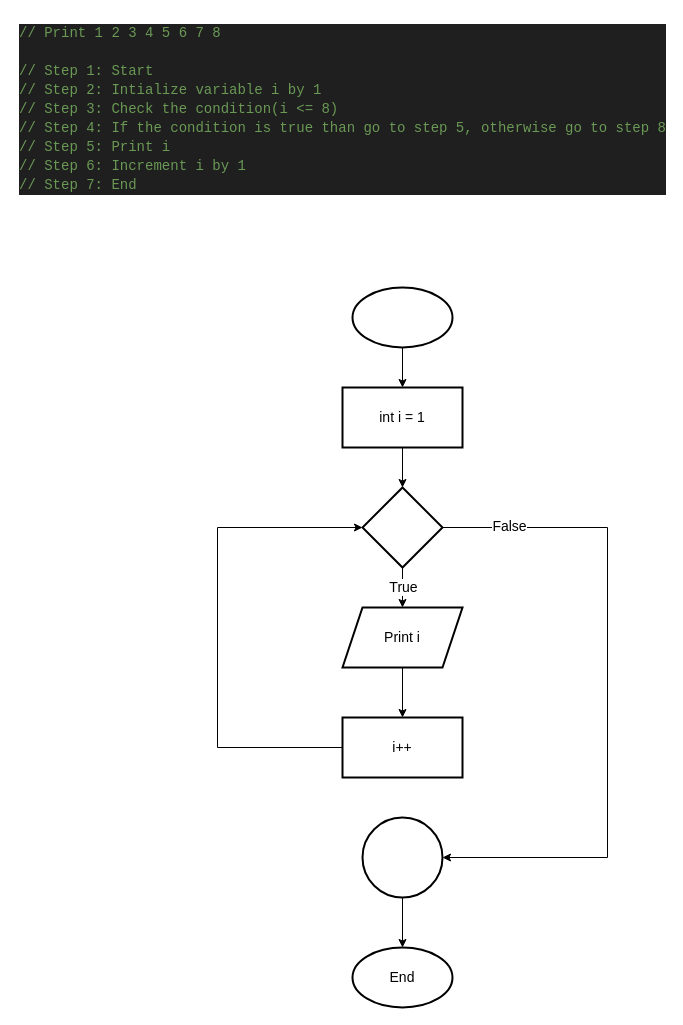
Image size: 683x1025. Some labels were removed from this diagram. The shapes that lost their labels are listed below. From the top down, each one's centre as x and y in pixels, then its label:
the point at 402,317: Start
the point at 402,527: i <= 8
